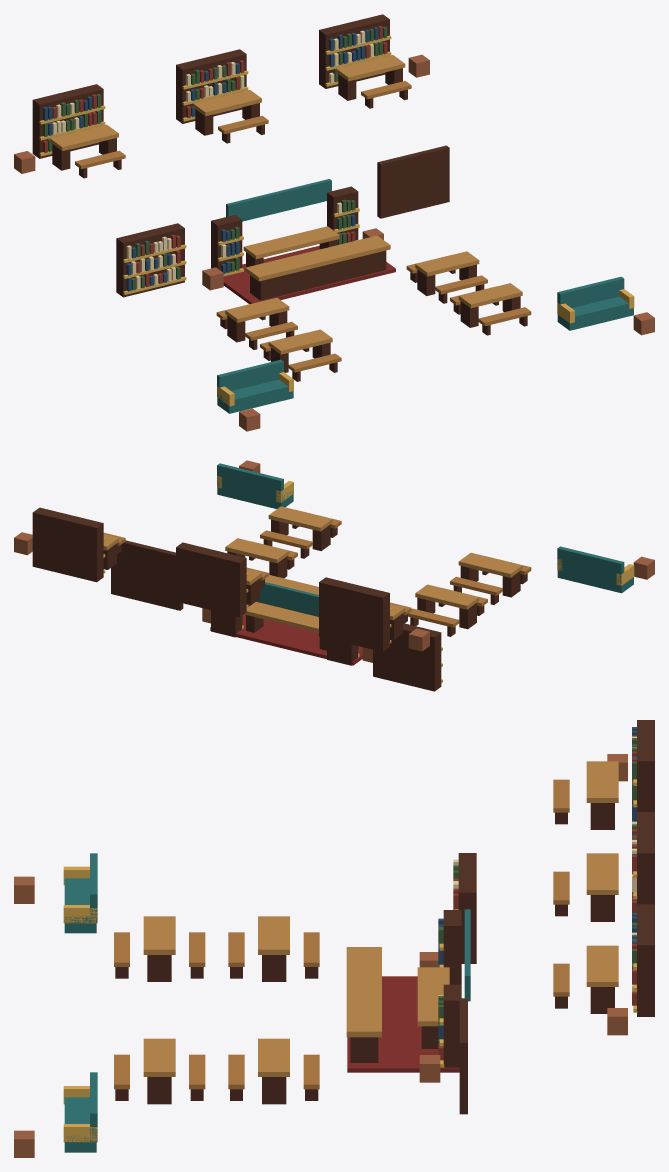
The model's file is SM_Guild_Furniture.fbx.
The picture shows the model from 3 angles, top to bottom: view 1: azimuth 30°, elevation 25°; view 2: azimuth 150°, elevation 25°; view 3: azimuth 270°, elevation 25°; orthographic projection. The views are drawn at different scales.
Parts seen in each view (by area): view 1: QuestBoard_1, ReceptionCounter_1, ReceptionSignBack_1, CounterLip_5, ReceptionDais_5, Bookcase_1.002, Desk_5, SofaBack_1.001, SofaBack_1, Bookcase_1.004, SofaSeat_1, SofaSeat_1.001 (+10 smaller); view 2: Bookcase_3.005, Bookcase_3.004, Bookcase_3.003, QuestBoard_3, Bookcase_3.002, ReceptionDais_5, SofaBack_3, SofaBack_3.001, ReceptionSignBack_3, Desk_5, Desk_5.004, Desk_5.001 (+15 smaller); view 3: ReceptionDais_5, CounterLip_5, Desk_5, Bookcase_2.005, Desk_5.005, Desk_5.006, Desk_5.007, Bookcase_2.001, Desk_5.001, Desk_5.002, Desk_5.003, Desk_5.004 (+19 smaller).
Boxes of the visible parts, x1=… form: QuestBoard_1: x1=380, y1=148, x2=449, y2=218; ReceptionCounter_1: x1=260, y1=250, x2=386, y2=300; ReceptionSignBack_1: x1=228, y1=180, x2=331, y2=221; CounterLip_5: x1=246, y1=235, x2=390, y2=277; ReceptionDais_5: x1=223, y1=245, x2=395, y2=303; Bookcase_1.002: x1=123, y1=228, x2=184, y2=297; Desk_5: x1=244, y1=226, x2=338, y2=255; SofaBack_1.001: x1=560, y1=279, x2=624, y2=307; SofaBack_1: x1=219, y1=361, x2=283, y2=390; Bookcase_1.004: x1=182, y1=54, x2=246, y2=123; SofaSeat_1: x1=229, y1=386, x2=293, y2=413; SofaSeat_1.001: x1=569, y1=303, x2=633, y2=330; Bookcase_3.005: x1=32, y1=512, x2=96, y2=582; Bookcase_3.004: x1=176, y1=547, x2=239, y2=616; Bookcase_3.003: x1=319, y1=582, x2=382, y2=651; QuestBoard_3: x1=111, y1=543, x2=180, y2=610; Bookcase_3.002: x1=373, y1=630, x2=434, y2=691; ReceptionDais_5: x1=210, y1=604, x2=362, y2=662; SofaBack_3: x1=557, y1=548, x2=621, y2=585; SofaBack_3.001: x1=217, y1=465, x2=280, y2=502; ReceptionSignBack_3: x1=256, y1=584, x2=318, y2=616; Desk_5: x1=246, y1=601, x2=318, y2=628; Desk_5.004: x1=226, y1=538, x2=288, y2=559; Desk_5.001: x1=459, y1=552, x2=522, y2=573; ReceptionDais_5: x1=347, y1=976, x2=459, y2=1068; CounterLip_5: x1=346, y1=947, x2=381, y2=1031; Desk_5: x1=417, y1=967, x2=449, y2=1021; Bookcase_2.005: x1=637, y1=945, x2=654, y2=1016; Desk_5.005: x1=586, y1=761, x2=618, y2=797; Desk_5.006: x1=586, y1=853, x2=618, y2=889; Desk_5.007: x1=586, y1=945, x2=618, y2=981; Bookcase_2.001: x1=443, y1=1000, x2=459, y2=1067; Desk_5.001: x1=143, y1=916, x2=175, y2=949; Desk_5.002: x1=143, y1=1038, x2=175, y2=1071; Desk_5.003: x1=258, y1=916, x2=289, y2=949; Desk_5.004: x1=258, y1=1038, x2=289, y2=1071.
Size of the model in its own units: 1655 by 1707 by 570.
